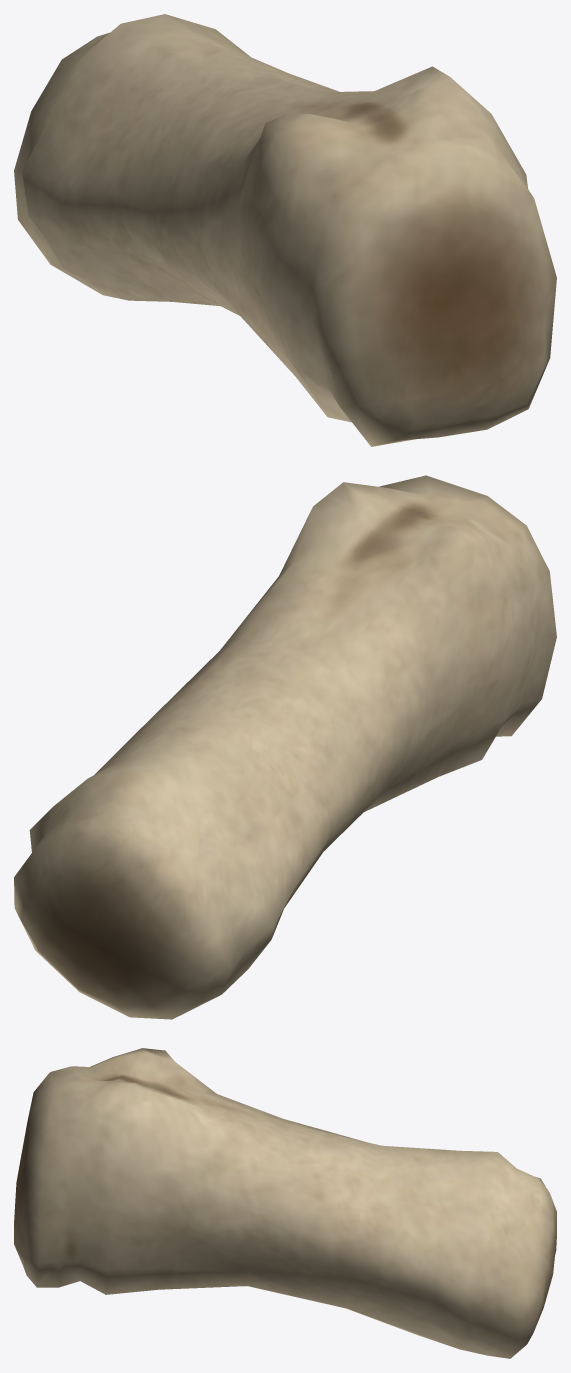
Rendered from Caudal_Vertebrae8.glb.
3 views of the same model, one above another, from view 1: azimuth 30°, elevation 25°; view 2: azimuth 150°, elevation 25°; view 3: azimuth 270°, elevation 25° (orthographic). The views are drawn at different scales.
Visible parts, largest first — view 1: Caudal_Vertebrae_27:Group59539; view 2: Caudal_Vertebrae_27:Group59539; view 3: Caudal_Vertebrae_27:Group59539.
Part boxes in pixels (bbox=[...]): Caudal_Vertebrae_27:Group59539: bbox=[14, 14, 556, 446]; Caudal_Vertebrae_27:Group59539: bbox=[14, 475, 556, 1019]; Caudal_Vertebrae_27:Group59539: bbox=[14, 1048, 556, 1358].
Bounding box in the file's own units: 8.78 × 11.29 × 20.
Materials: 1 (1 with a texture image).
